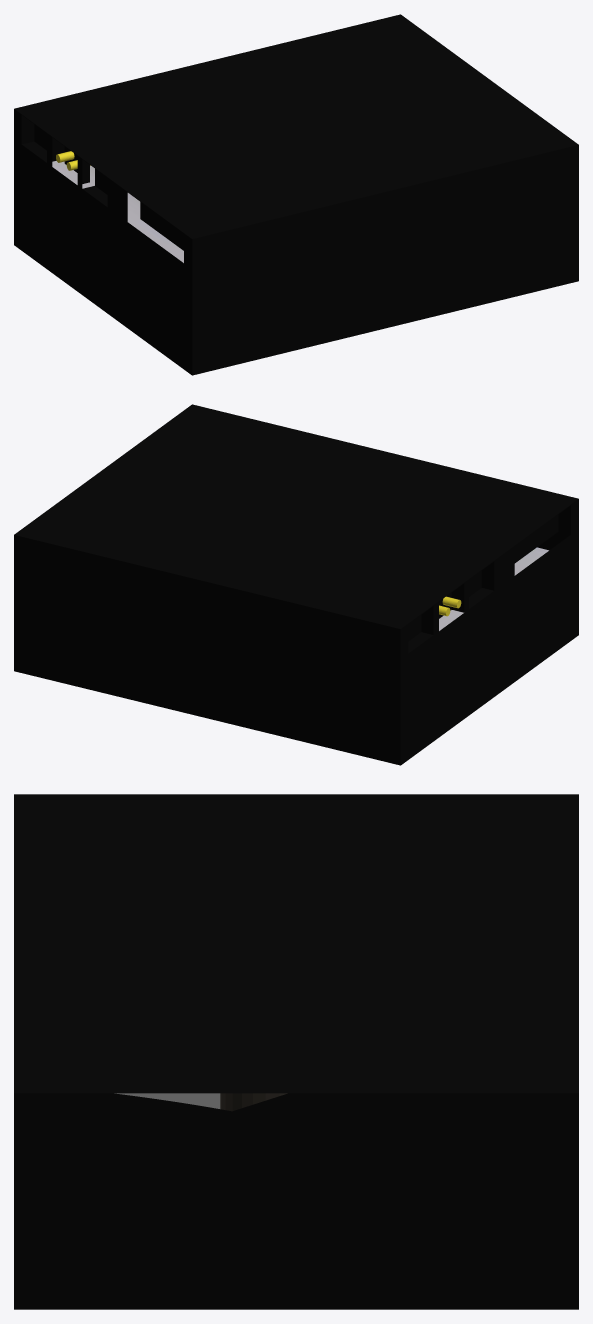
The model's file is 機械硬盤.fbx.
3 views of the same model, one above another, from view 1: azimuth 30°, elevation 25°; view 2: azimuth 150°, elevation 25°; view 3: azimuth 270°, elevation 25° (orthographic). The views are drawn at different scales.
Parts seen in each view (by area): view 1: Cube.003, Cube.002, 立方體.016; view 2: Cube.003, Cube.002, 立方體.016; view 3: Cube.002, Cube.003, 圓柱體.006, 圓柱體.005.
Part boxes in pixels (x1,y1,x2,y2): Cube.003: (14, 14, 578, 375); Cube.002: (36, 28, 559, 233); 立方體.016: (52, 161, 183, 262); Cube.003: (14, 404, 578, 765); Cube.002: (43, 413, 558, 621); 立方體.016: (439, 547, 548, 630); Cube.002: (14, 794, 574, 1093); Cube.003: (14, 794, 578, 1309); 圓柱體.006: (114, 1093, 220, 1108); 圓柱體.005: (220, 1093, 287, 1111).
Bounding box in the file's own units: 1005 × 347 × 798.
